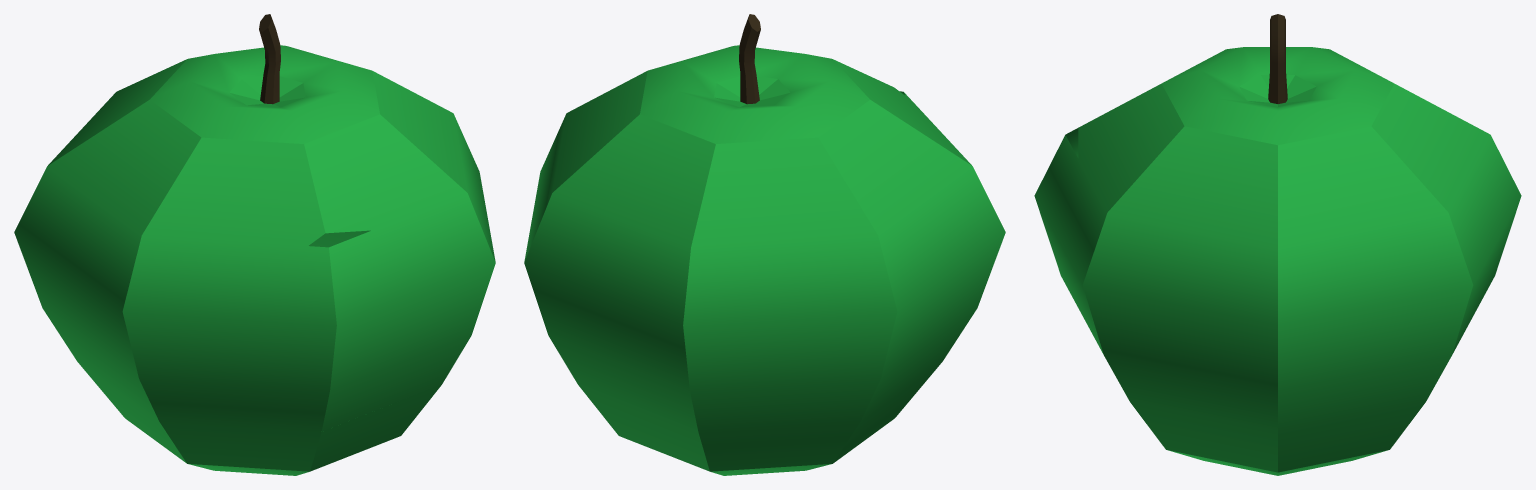
Rendered from greenApple.fbx.
3 renders of one model, left to right at view 1: azimuth 30°, elevation 25°; view 2: azimuth 150°, elevation 25°; view 3: azimuth 270°, elevation 25°, orthographic.
Parts seen in each view (by area): view 1: pasted__pCylinder1; view 2: pasted__pCylinder1; view 3: pasted__pCylinder1.
Part boxes in pixels (x1=…): pasted__pCylinder1: x1=14, y1=14, x2=495, y2=475; pasted__pCylinder1: x1=524, y1=14, x2=1005, y2=475; pasted__pCylinder1: x1=1034, y1=14, x2=1521, y2=475.
Bounding box in the file's own units: 3.9 × 3.84 × 4.01.
1 material, 1 textured.
